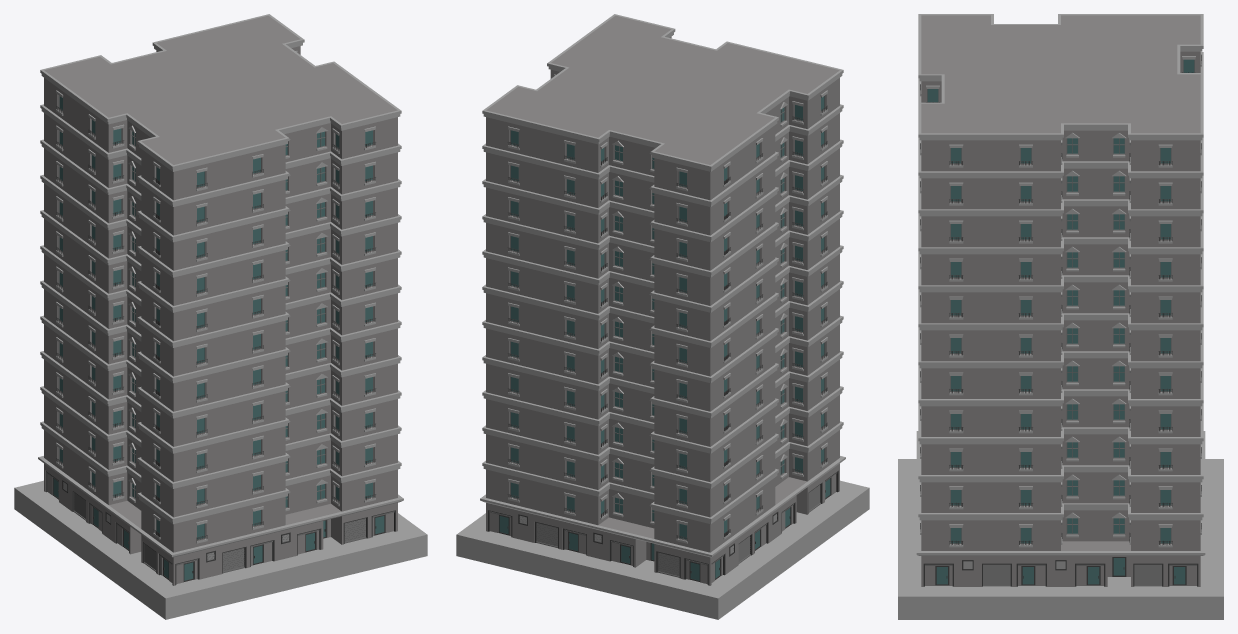
Rendered from SM_building_002.fbx.
The picture shows the model from 3 angles, left to right: view 1: azimuth 30°, elevation 25°; view 2: azimuth 150°, elevation 25°; view 3: azimuth 270°, elevation 25°; orthographic projection. The views are drawn at different scales.
Visible parts, largest first — view 1: Facade_1, Facade_4, Roof, Foundation, Facade_3, Facade_2; view 2: Facade_3, Facade_4, Roof, Foundation, Facade_2, Facade_1; view 3: Facade_2, Roof, Foundation, Facade_1, Facade_3, Facade_4.
Part boxes in pixels (box(x1,y1,x2,y2)): Facade_1: box(173, 110, 403, 585); Facade_4: box(40, 70, 175, 585); Roof: box(44, 15, 397, 164); Foundation: box(14, 480, 427, 619); Facade_3: box(38, 14, 267, 460); Facade_2: box(267, 14, 400, 497); Facade_3: box(483, 110, 714, 585); Facade_4: box(710, 69, 845, 585); Roof: box(486, 15, 839, 164); Foundation: box(456, 480, 869, 619); Facade_2: box(480, 15, 615, 502); Facade_1: box(613, 14, 841, 457); Facade_2: box(921, 123, 1205, 586); Roof: box(921, 15, 1200, 133); Foundation: box(898, 459, 1223, 619); Facade_1: box(916, 15, 944, 555); Facade_3: box(1177, 14, 1205, 550); Facade_4: box(916, 14, 1200, 432).
Bounding box in the file's own units: 1400 × 2260 × 1400.
